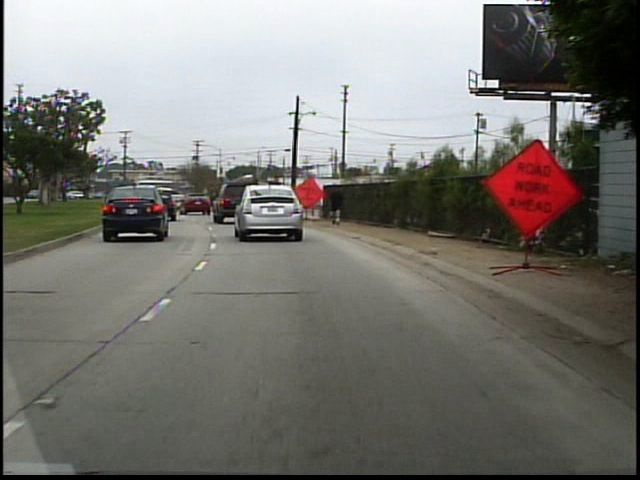person: (324, 181, 346, 228)
